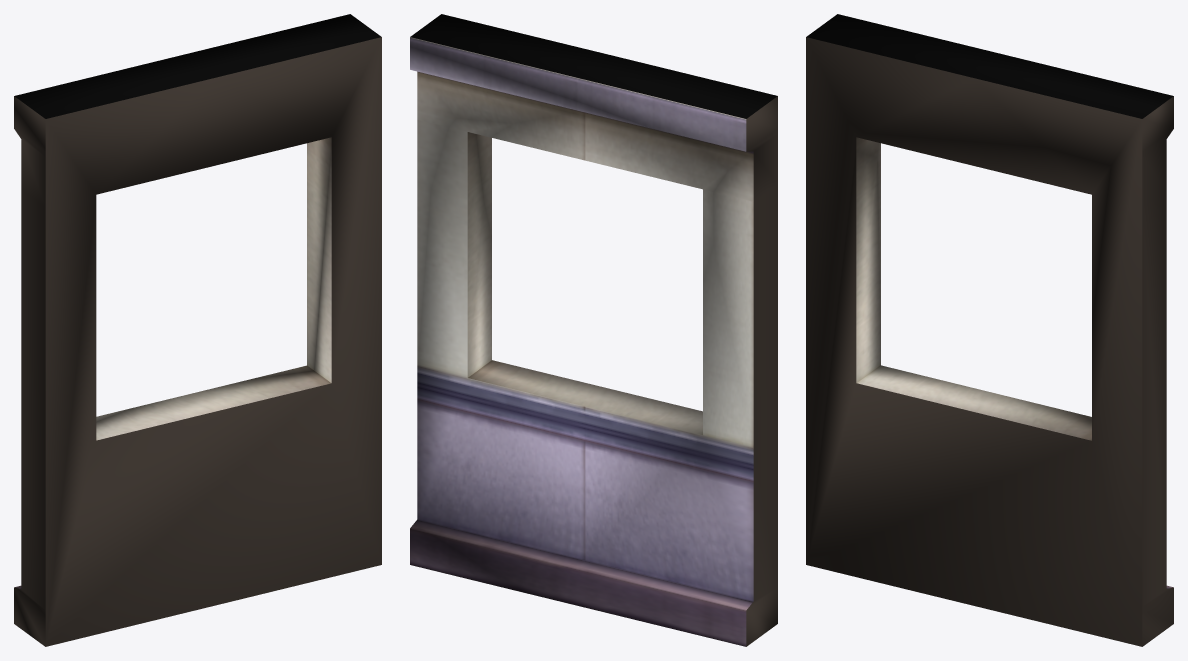
File: a_SCwall03_4.glb
3 views of the same model, side by side, from view 1: azimuth 30°, elevation 25°; view 2: azimuth 150°, elevation 25°; view 3: azimuth 330°, elevation 25° (orthographic).
Parts seen in each view (by area): view 1: a_SCwall03_4; view 2: a_SCwall03_4; view 3: a_SCwall03_4.
Part boxes in pixels (bbox=[...]): a_SCwall03_4: bbox=[14, 14, 381, 646]; a_SCwall03_4: bbox=[410, 14, 777, 646]; a_SCwall03_4: bbox=[806, 14, 1173, 646].
Size of the model in its own units: 2 by 3 by 0.3256.
Materials: 1 (1 with a texture image).
